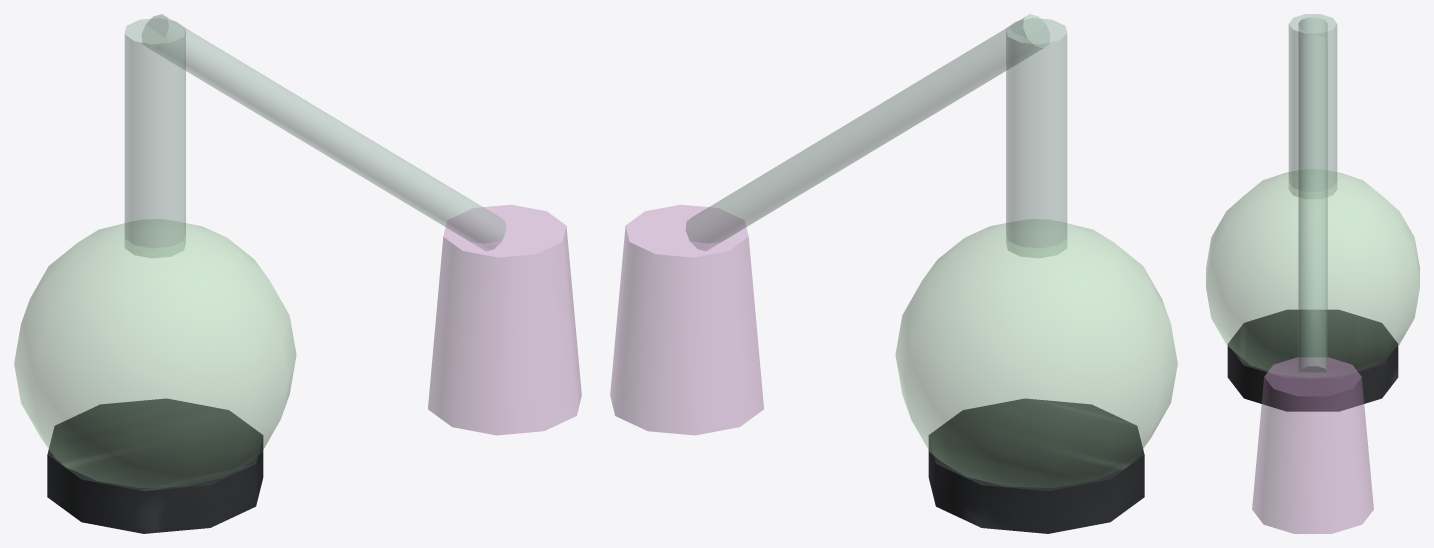
File: alembic.glb
The picture shows the model from 3 angles, left to right: view 1: azimuth 30°, elevation 25°; view 2: azimuth 150°, elevation 25°; view 3: azimuth 270°, elevation 25°; orthographic projection. The views are drawn at different scales.
Parts seen in each view (by area): view 1: alembic; view 2: alembic; view 3: alembic.
Boxes of the visible parts, <box> form: alembic: <box>14,14,581,533</box>; alembic: <box>610,14,1177,533</box>; alembic: <box>1206,14,1419,533</box>.
Size of the model in its own units: 0.3941 by 0.329 by 0.1755.
4 materials, 1 textured.
